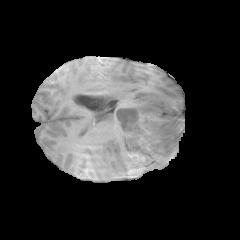glioma: (114, 93, 183, 178)
